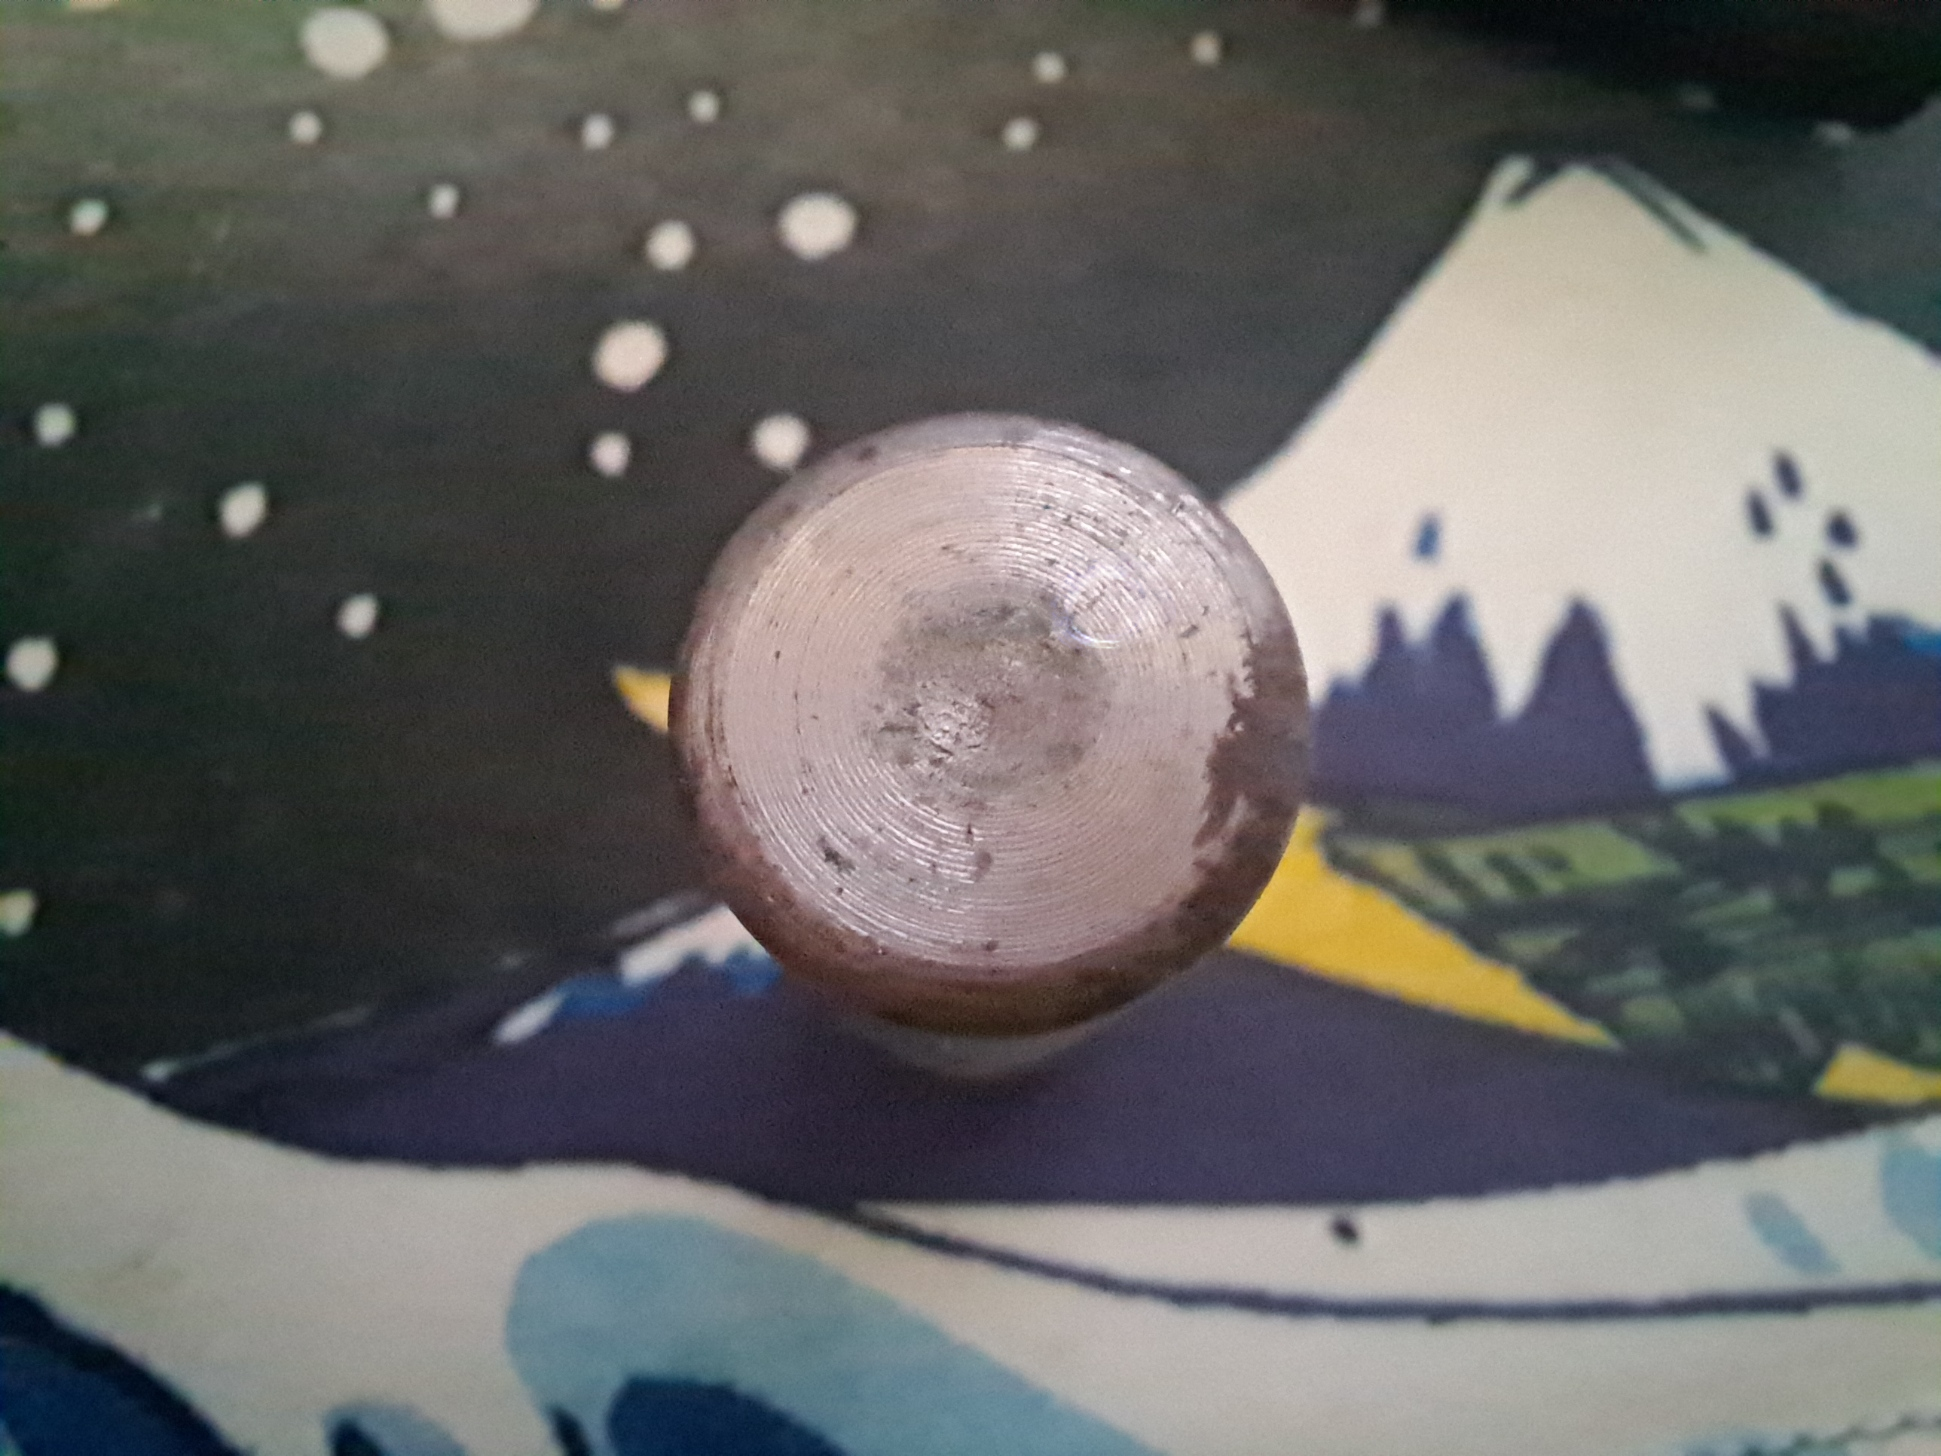плансон: (668, 414, 1315, 1087)
повреждение: (1051, 555, 1172, 655)
